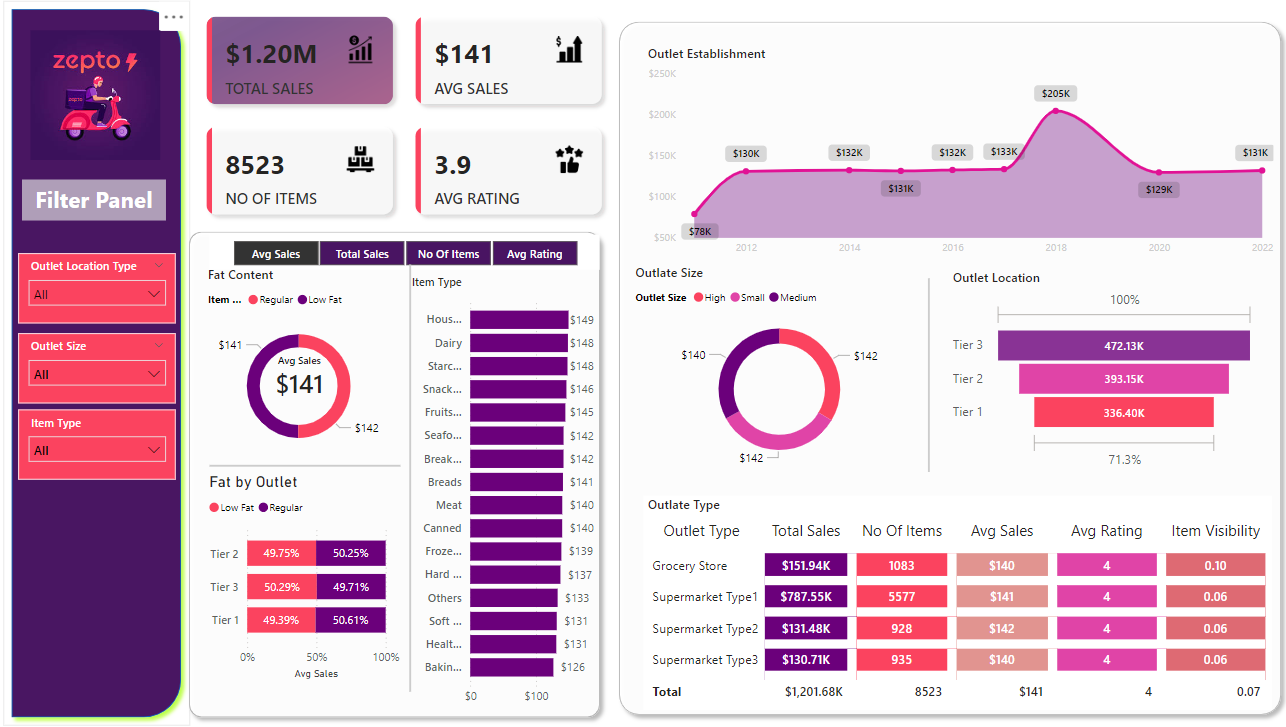

What the dashboard file says about the page in this screenshot:
{"tool":"powerbi","page":{"name":"Zepto","canvas":[1400,800],"ordinal":0},"visuals":[{"type":"shape","box":[12.1,9.4,199.7,777.5],"z":0},{"type":"textbox","box":[26.8,50.9,170.2,83.1],"z":1000},{"type":"textbox","box":[263,26,200,750],"z":2000},{"type":"cardVisual","fields":{"Data":["BlinkIT Grocery Data.Total Sales","BlinkIT Grocery Data.Avg Sales","BlinkIT Grocery Data.No Of Items","BlinkIT Grocery Data.Avg Rating"]},"box":[212.9,10,458.6,247.1],"z":3000},{"type":"shape","box":[202.4,248,458.4,538.9],"z":4000},{"type":"donutChart","title":"Fat Content","fields":{"Y":["BlinkIT Grocery Data.Avg Sales"],"Category":["BlinkIT Grocery Data.Item Fat Content"]},"box":[226.5,293.6,205.1,213.1],"z":5000},{"type":"slicer","fields":{"Values":["Metrix.Metrix"]},"box":[233.2,260.1,418.2,37.5],"z":6000},{"type":"cardVisual","fields":{"Data":["BlinkIT Grocery Data.Avg Sales"]},"box":[281.5,371.3,96.5,69.7],"z":7000},{"type":"hundredPercentStackedBarChart","title":"Fat by Outlet ","fields":{"Y":["BlinkIT Grocery Data.Avg Sales"],"Category":["BlinkIT Grocery Data.Outlet Location Type"],"Series":["BlinkIT Grocery Data.Item Fat Content"]},"box":[227.9,514.7,214.5,226.5],"z":8000},{"type":"shape","box":[233.2,487.9,205.1,40.2],"z":9000},{"type":"shape","box":[432.3,292.8,31,458.2],"z":10000},{"type":"barChart","title":"Item Type","fields":{"Y":["BlinkIT Grocery Data.Avg Sales"],"Category":["BlinkIT Grocery Data.Item Type"]},"box":[445,303,218.5,470.5],"z":11000},{"type":"shape","box":[663.5,22.8,727.9,761.4],"z":12000},{"type":"lineChart","title":"Outlet Establishment ","fields":{"Category":["BlinkIT Grocery Data.Outlet Establishment Year"],"Y":["BlinkIT Grocery Data.Total Sales"]},"box":[698.4,56.3,681,234.6],"z":13000},{"type":"donutChart","title":"Outlate Size","fields":{"Y":["BlinkIT Grocery Data.Avg Sales"],"Category":["BlinkIT Grocery Data.Outlet Size"]},"box":[685,290.9,319,225.2],"z":14000},{"type":"funnel","title":"Outlet Location ","fields":{"Category":["BlinkIT Grocery Data.Outlet Location Type"],"Y":["Sum(BlinkIT Grocery Data.Sales)"]},"box":[1025.5,296.2,333.8,219.8],"z":15000},{"type":"shape","box":[902.1,307,205.1,207.8],"z":17000},{"type":"pivotTable","title":"Outlate Type","fields":{"Rows":["BlinkIT Grocery Data.Outlet Type"],"Values":["BlinkIT Grocery Data.Total Sales","BlinkIT Grocery Data.No Of Items","BlinkIT Grocery Data.Avg Sales","BlinkIT Grocery Data.Avg Rating","Avg(BlinkIT Grocery Data.Item Visibility)"]},"box":[698.4,540.2,674.3,229.2],"z":18000},{"type":"slicer","fields":{"Values":["BlinkIT Grocery Data.Outlet Location Type"]},"box":[28.2,280.2,168.9,75.1],"z":19000},{"type":"slicer","fields":{"Values":["BlinkIT Grocery Data.Outlet Size"]},"box":[28.2,366,168.9,75.1],"z":20000},{"type":"slicer","fields":{"Values":["BlinkIT Grocery Data.Item Type"]},"box":[28.2,447.7,168.9,75.1],"z":21000},{"type":"textbox","box":[32.2,201.1,154.2,44.2],"z":22000},{"type":"image","box":[34.9,36.2,151.5,148.8],"z":23000}]}

Visuals, with their boxes in screenshot pixels (x1, y1, x2, y2), scaled from the page's 1400x800 canvas onto the 1286x727 screenshot:
shape: pyautogui.locateOnScreen(11, 9, 195, 715)
textbox: pyautogui.locateOnScreen(25, 46, 181, 122)
textbox: pyautogui.locateOnScreen(242, 24, 425, 705)
cardVisual - BlinkIT Grocery Data.Total Sales x BlinkIT Grocery Data.Avg Sales: pyautogui.locateOnScreen(196, 9, 617, 234)
shape: pyautogui.locateOnScreen(186, 225, 607, 715)
"Fat Content" donutChart: pyautogui.locateOnScreen(208, 267, 396, 460)
slicer - Metrix.Metrix: pyautogui.locateOnScreen(214, 236, 598, 270)
cardVisual - BlinkIT Grocery Data.Avg Sales: pyautogui.locateOnScreen(259, 337, 347, 401)
"Fat by Outlet " hundredPercentStackedBarChart: pyautogui.locateOnScreen(209, 468, 406, 674)
shape: pyautogui.locateOnScreen(214, 443, 403, 480)
shape: pyautogui.locateOnScreen(397, 266, 426, 682)
"Item Type" barChart: pyautogui.locateOnScreen(409, 275, 609, 703)
shape: pyautogui.locateOnScreen(609, 21, 1278, 713)
"Outlet Establishment " lineChart: pyautogui.locateOnScreen(642, 51, 1267, 264)
"Outlate Size" donutChart: pyautogui.locateOnScreen(629, 264, 922, 469)
"Outlet Location " funnel: pyautogui.locateOnScreen(942, 269, 1249, 469)
shape: pyautogui.locateOnScreen(829, 279, 1017, 468)
"Outlate Type" pivotTable: pyautogui.locateOnScreen(642, 491, 1261, 699)
slicer - BlinkIT Grocery Data.Outlet Location Type: pyautogui.locateOnScreen(26, 255, 181, 323)
slicer - BlinkIT Grocery Data.Outlet Size: pyautogui.locateOnScreen(26, 333, 181, 401)
slicer - BlinkIT Grocery Data.Item Type: pyautogui.locateOnScreen(26, 407, 181, 475)
textbox: pyautogui.locateOnScreen(30, 183, 171, 223)
image: pyautogui.locateOnScreen(32, 33, 171, 168)
